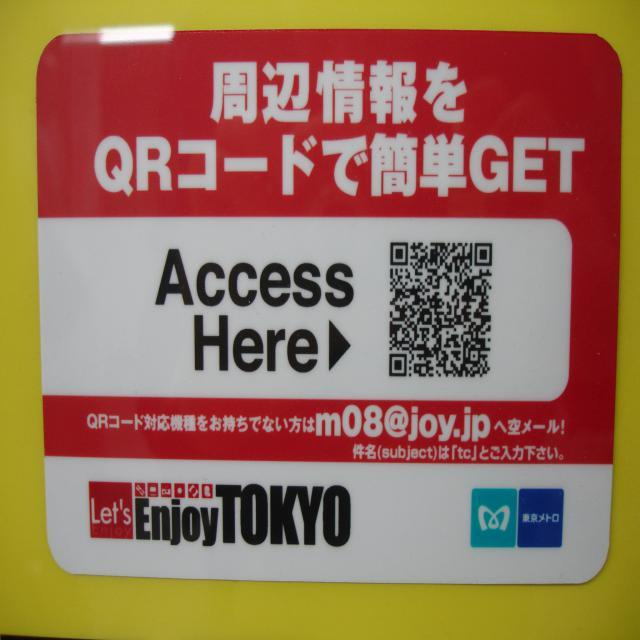qrcode: (390, 243, 493, 378)
